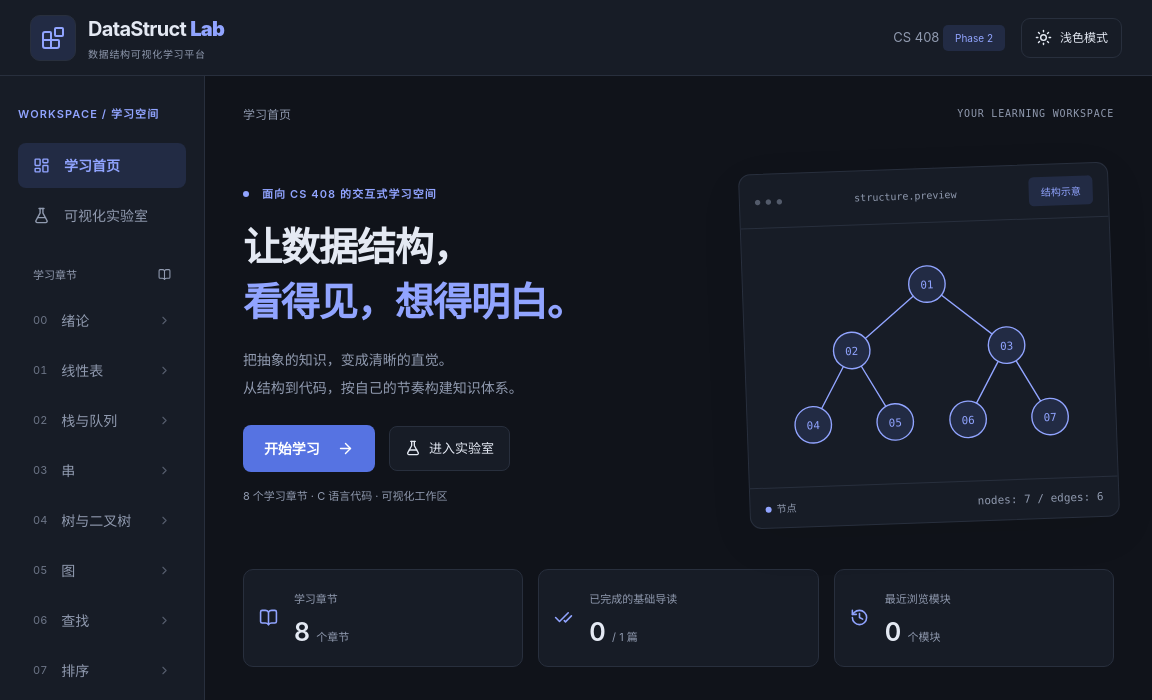
Test case: 学习网站 › 从首页进入章节并显示当前导航状态
Click the link "开始学习" at x=309, y=448, box [243,425,375,472]
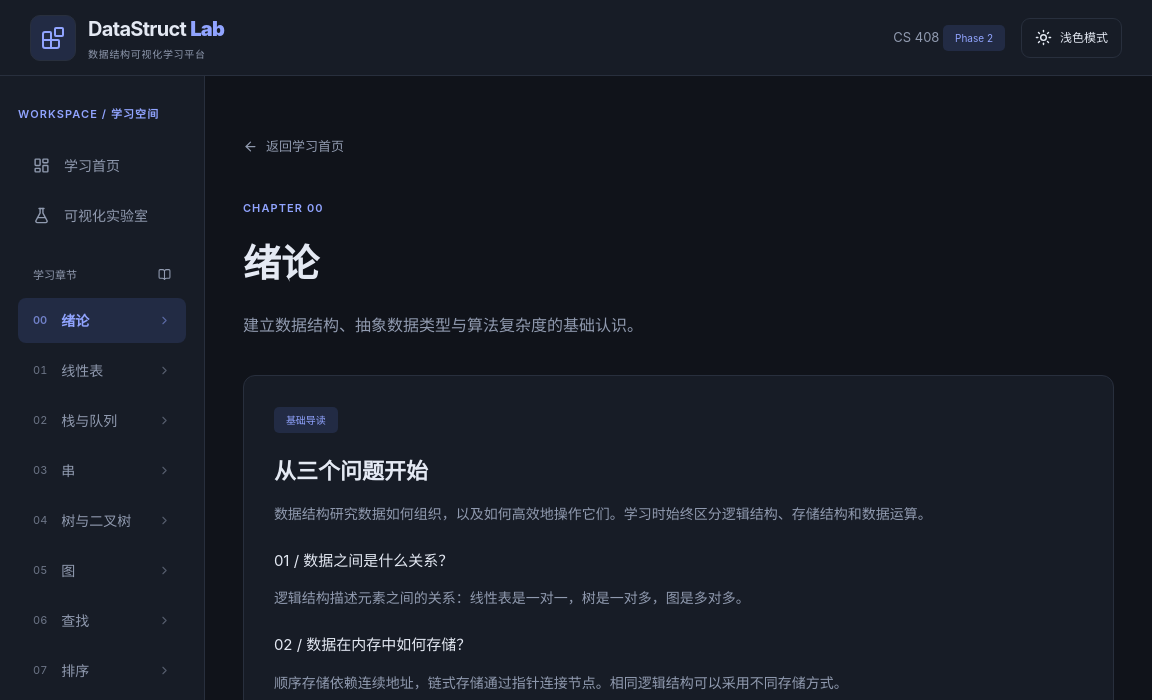
Result: the heading "绪论" is shown at [243,240,319,286]
Click the link "返回学习首页" at x=293, y=147, box [243,137,344,156]
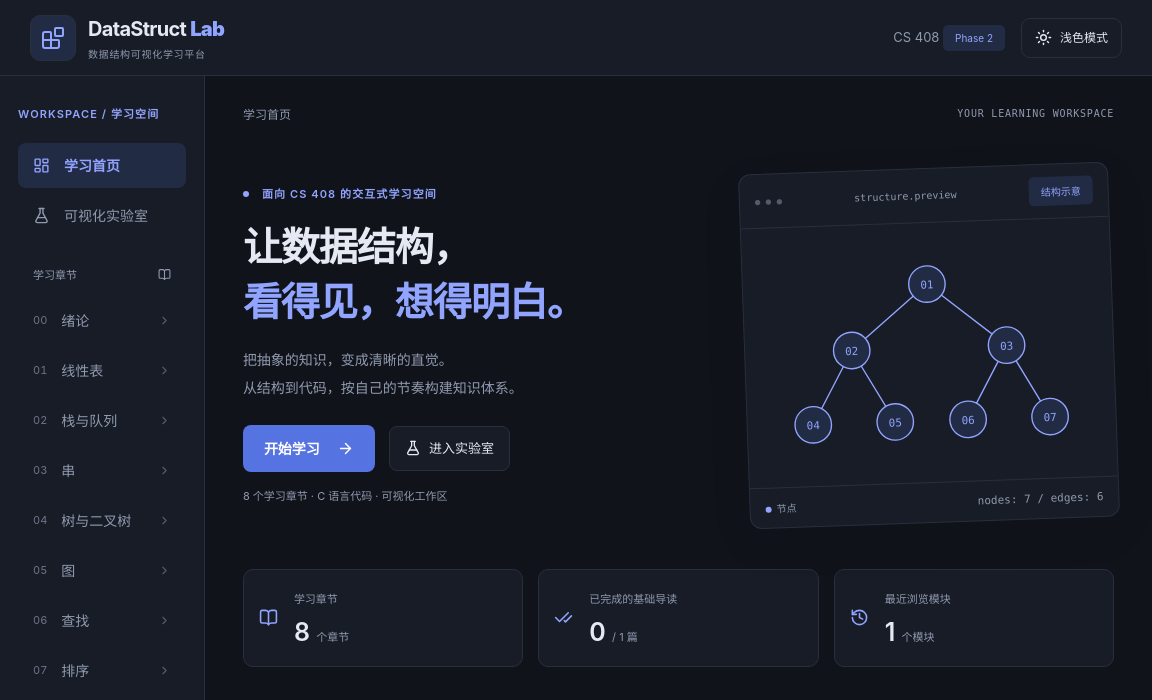
Result: the heading "让数据结构，看得见，想得明白。" is shown at [243,223,585,324]
